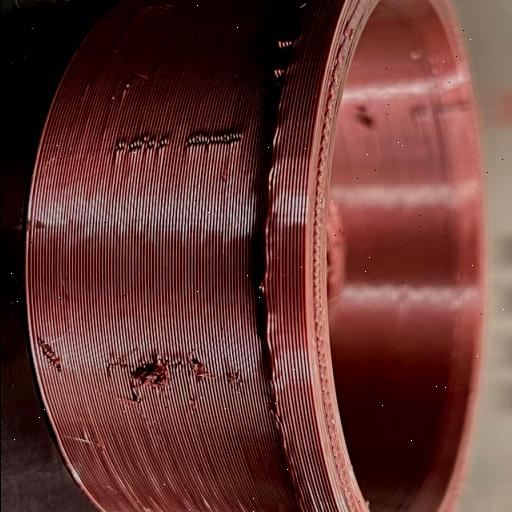cracks: (96, 338, 231, 422), (97, 112, 249, 180)
